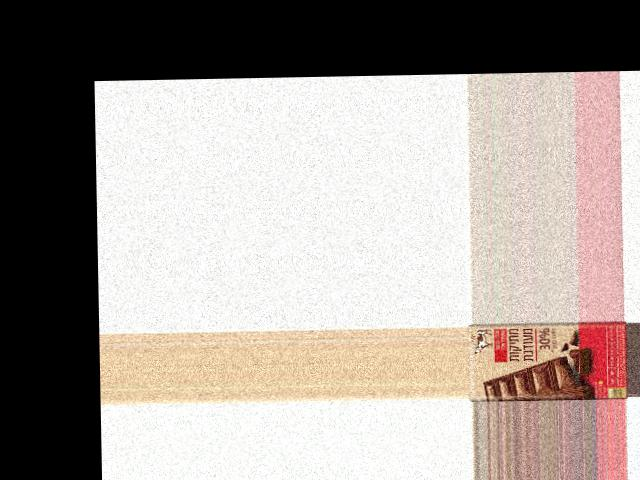chocolate: (467, 320, 626, 401)
